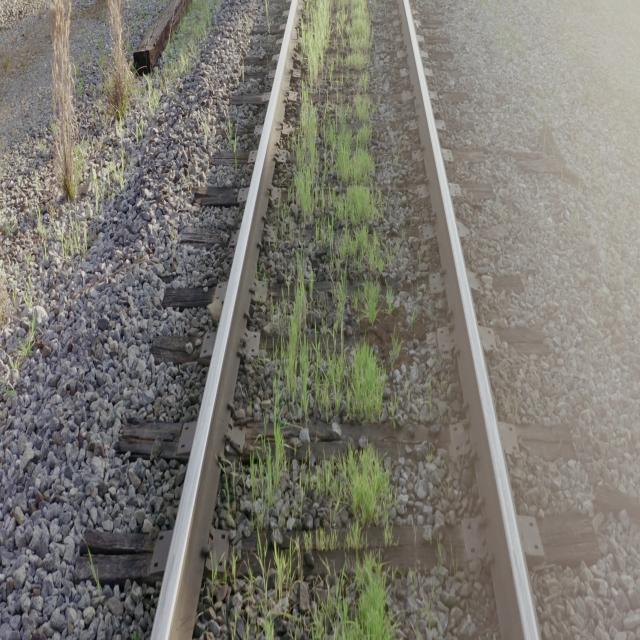Plant: (250, 0, 386, 529), (292, 444, 391, 551), (311, 551, 394, 640), (260, 500, 311, 638)
